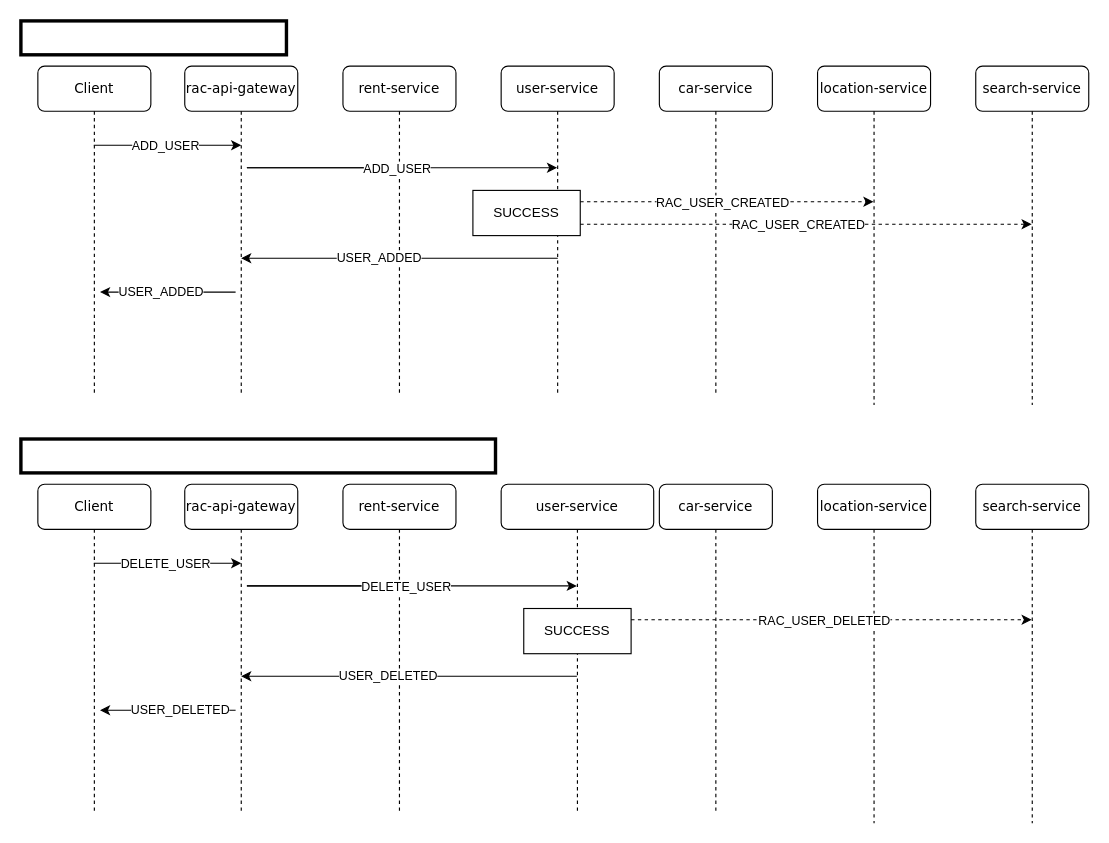
Some shapes in this 1109 by 843 pixel diagram are drawn without their labels. The centre of each missing label's shape, as x and y in pixels:
ADD USER SUCCESS: [153,37]
DELETE USER SUCCESS: [258,455]
